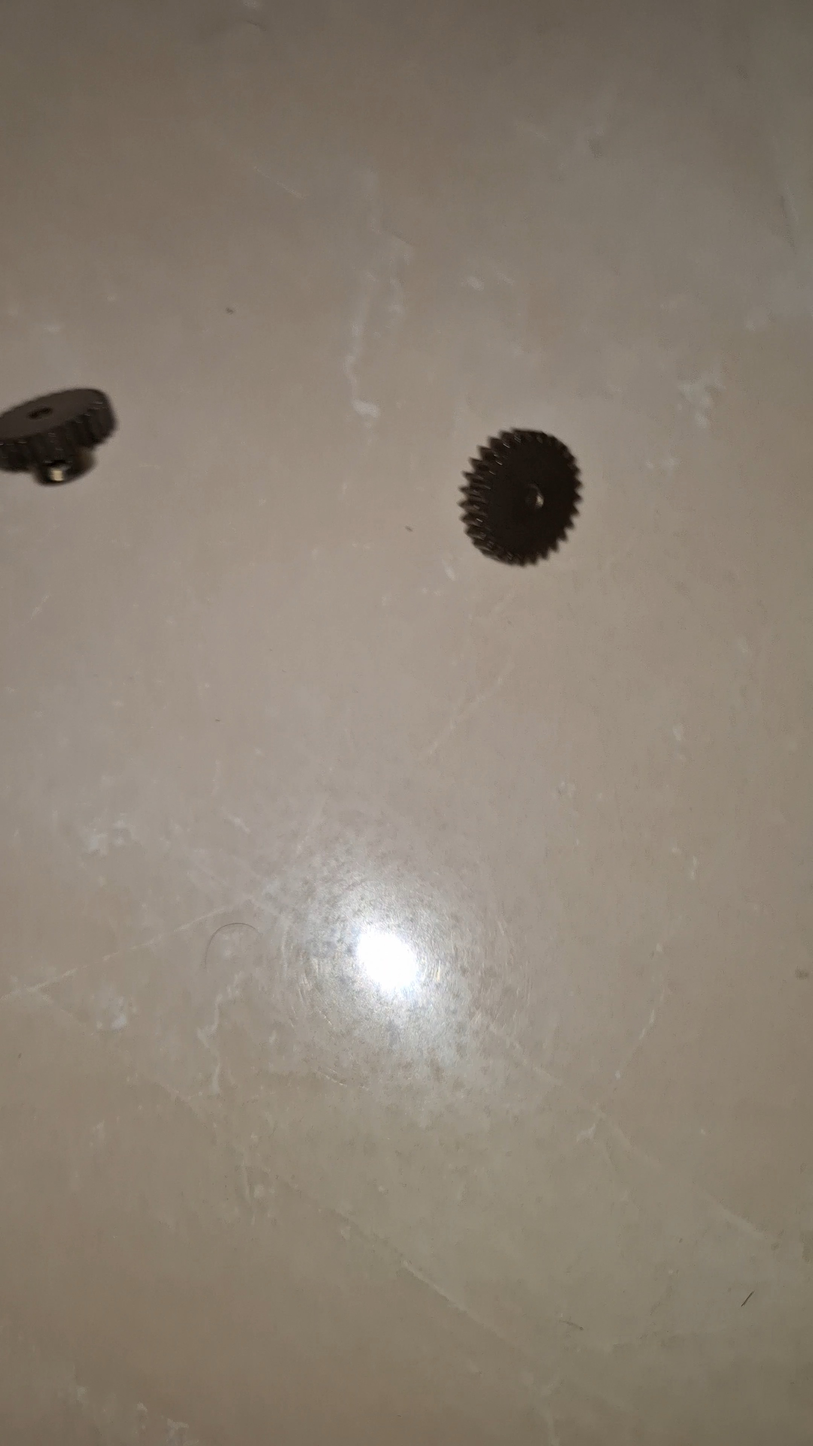spur gear: (461, 430, 580, 565), (0, 389, 114, 482)
